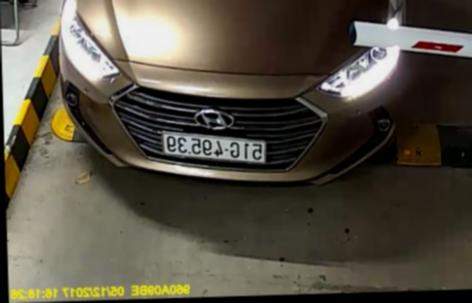License_Plate: (160, 133, 272, 165)
